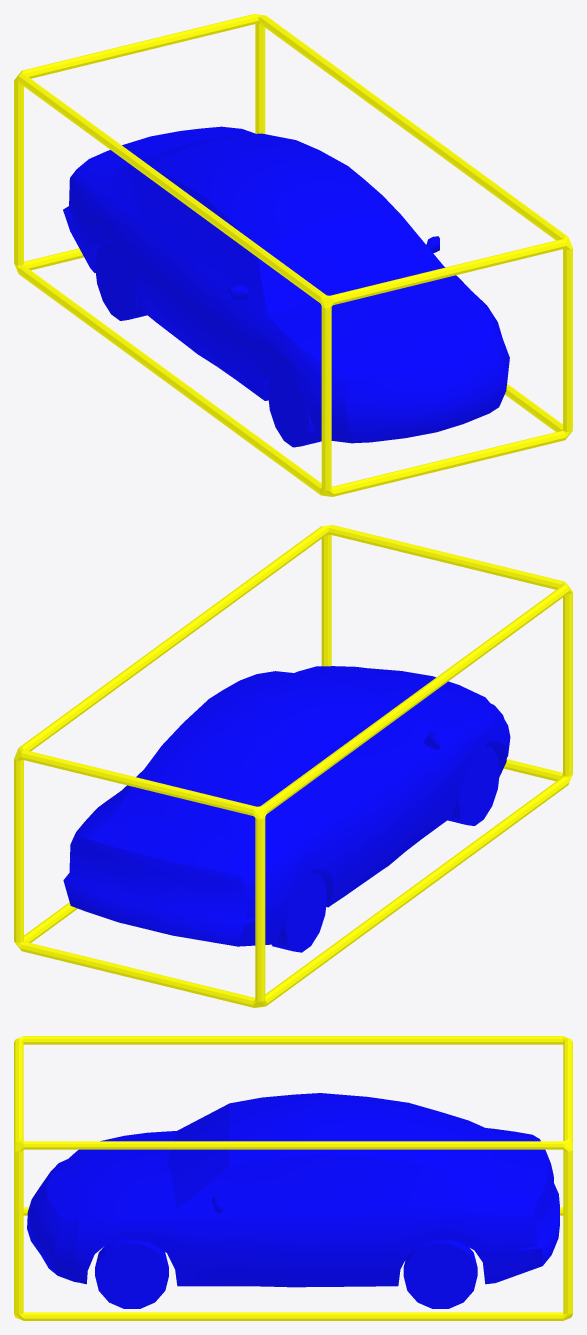
File: carbox.glb
The picture shows the model from 3 angles, top to bottom: view 1: azimuth 30°, elevation 25°; view 2: azimuth 150°, elevation 25°; view 3: azimuth 270°, elevation 25°; orthographic projection. The views are drawn at different scales.
Visible parts, largest first — view 1: car, Cube_Line; view 2: car, Cube_Line; view 3: car, Cube_Line.
Boxes of the visible parts, x1,y1,x2,y2 form: car: (63,126,509,447); Cube_Line: (14,14,572,496); car: (63,666,510,952); Cube_Line: (14,525,572,1007); car: (27,1093,559,1308); Cube_Line: (14,1036,572,1320).
Bounding box in the file's own units: 2.25 × 1.72 × 4.87.
